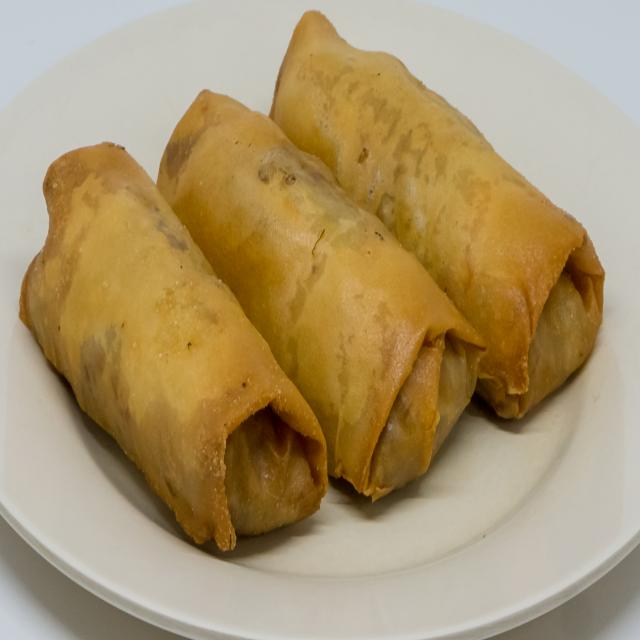Lumpia-Semarang: (18, 8, 612, 563)
